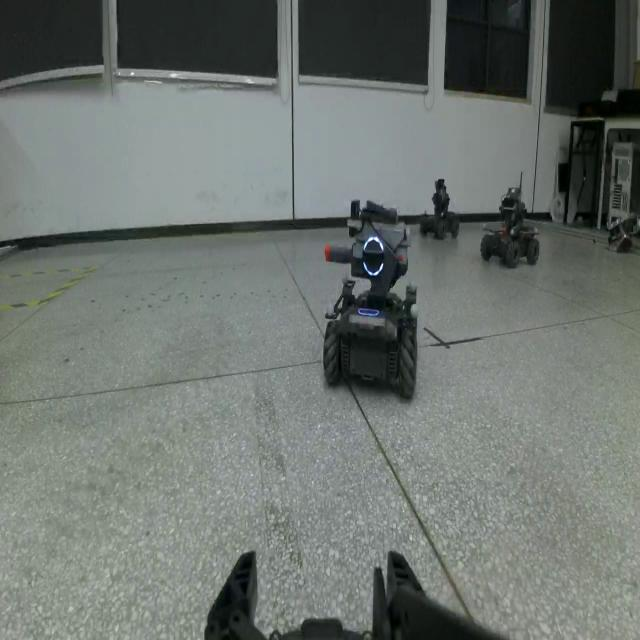s1: (316, 186, 422, 407), (479, 188, 542, 272), (421, 166, 463, 242)
